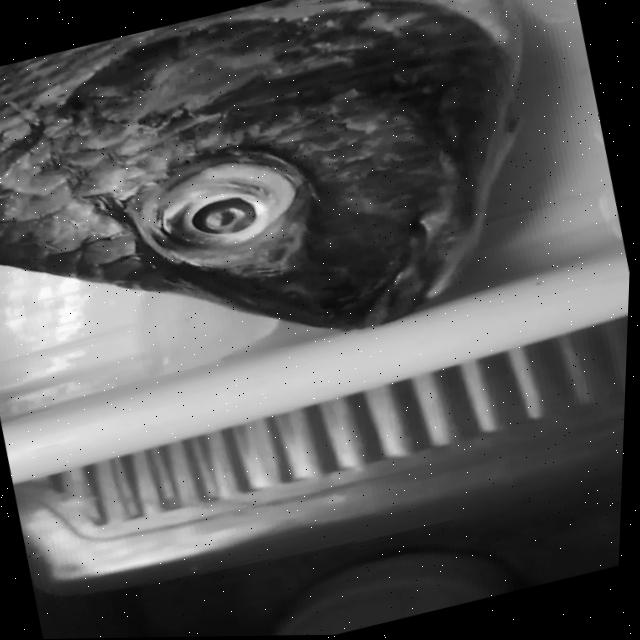Fresh: (66, 98, 382, 303)
